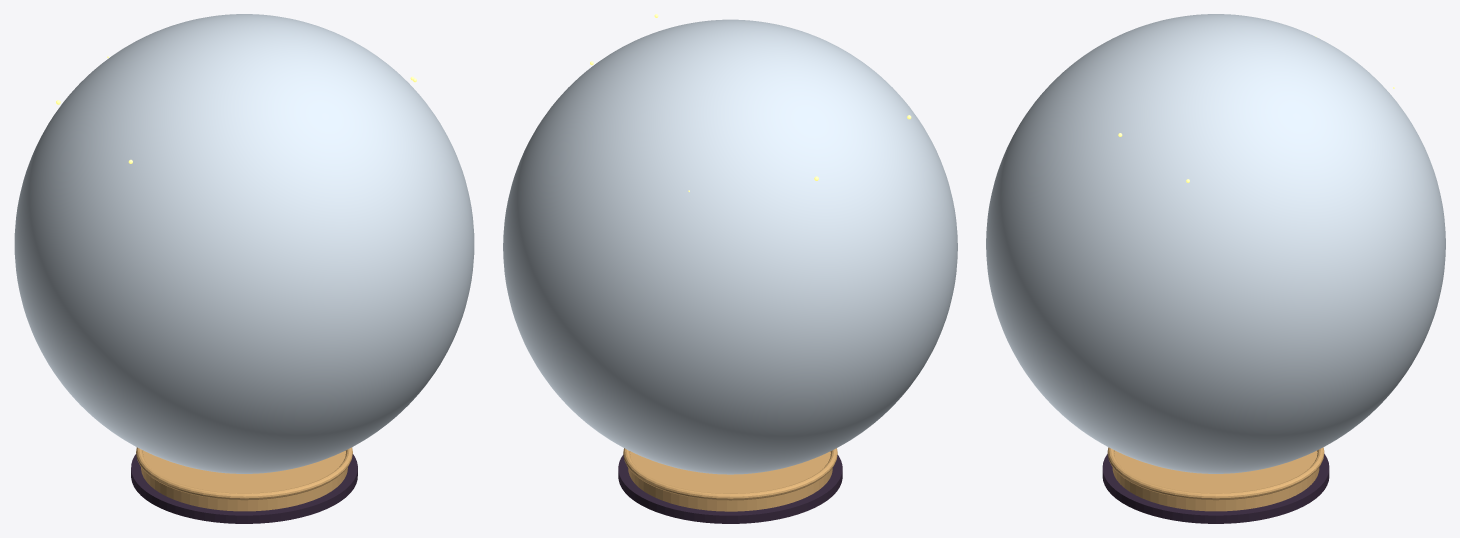
The model's file is tanya_unierse.glb.
The picture shows the model from 3 angles, left to right: view 1: azimuth 30°, elevation 25°; view 2: azimuth 150°, elevation 25°; view 3: azimuth 270°, elevation 25°; orthographic projection.
Visible parts, largest first — view 1: The glass universe, Golden pedestal, Dark pedestal base, Тор.001; view 2: The glass universe, Golden pedestal, Dark pedestal base, Тор.001; view 3: The glass universe, Golden pedestal, Dark pedestal base, Тор.001.
Boxes of the visible parts, left/top/right/bottom form: The glass universe: left=14, top=14, right=474, bottom=473; Golden pedestal: left=141, top=450, right=347, bottom=511; Dark pedestal base: left=131, top=454, right=357, bottom=523; Тор.001: left=136, top=447, right=352, bottom=500; The glass universe: left=503, top=19, right=957, bottom=474; Golden pedestal: left=628, top=451, right=832, bottom=511; Dark pedestal base: left=618, top=455, right=842, bottom=523; Тор.001: left=623, top=448, right=837, bottom=500; The glass universe: left=986, top=14, right=1445, bottom=473; Golden pedestal: left=1112, top=450, right=1319, bottom=511; Dark pedestal base: left=1102, top=454, right=1329, bottom=523; Тор.001: left=1107, top=447, right=1324, bottom=500.
Bounding box in the file's own units: 6 × 6.34 × 6.
